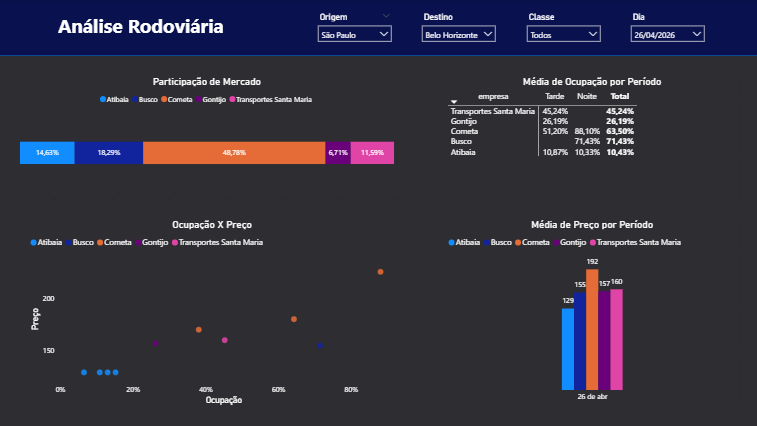

The page's visual inventory and layout, read from the dashboard file:
{"tool":"powerbi","page":{"name":"Análise Rodoviária","canvas":[1280,720],"ordinal":0},"visuals":[{"type":"pivotTable","title":"Média de Ocupação por Período","fields":{"Rows":["ouro_passagens.empresa"],"Columns":["ouro_passagens.data_partida Hierarquia.data_partida","ouro_passagens.data_partida Hierarquia.turno","ouro_passagens.data_partida Hierarquia.horario_saida"],"Values":["Avg(ouro_passagens.taxa_ocupacao)"]},"box":[752,128,496,208],"z":0},{"type":"shape","box":[0,0,1280,96],"z":1000},{"type":"textbox","box":[96,16,368,64],"z":2000},{"type":"scatterChart","title":"Ocupação X Preço","fields":{"X":["ouro_passagens.taxa_ocupacao"],"Y":["ouro_passagens.preco_passagem"],"Series":["ouro_passagens.empresa"]},"box":[48,368,624,320],"z":3000},{"type":"slicer","fields":{"Values":["ouro_passagens.data_partida"]},"box":[1056,16,144,64],"z":4000},{"type":"slicer","fields":{"Values":["ouro_passagens.origem"]},"box":[528,16,144,64],"z":5000},{"type":"slicer","fields":{"Values":["ouro_passagens.destino"]},"box":[704,16,144,64],"z":6000},{"type":"slicer","fields":{"Values":["ouro_passagens.classe_servico"]},"box":[880,16,144,64],"z":7000},{"type":"clusteredColumnChart","title":"Média de Preço por Período","fields":{"Category":["ouro_passagens.data_partida Hierarquia.data_partida","ouro_passagens.data_partida Hierarquia.turno","ouro_passagens.data_partida Hierarquia.horario_saida"],"Y":["Avg(ouro_passagens.preco_passagem)"],"Series":["ouro_passagens.empresa"]},"box":[752,368,496,320],"z":8000},{"type":"hundredPercentStackedBarChart","title":"Participação de Mercado","fields":{"Series":["ouro_passagens.empresa"],"Y":["Sum(ouro_passagens.assentos_ocupados)"]},"box":[32,128,640,208],"z":9000}]}

Visuals, with their boxes in screenshot pixels (x1, y1, x2, y2), scaled from the page's 1280x720 canvas onto the 757x426 screenshot:
"Média de Ocupação por Período" pivotTable: detection(445, 76, 738, 199)
shape: detection(0, 0, 756, 57)
textbox: detection(57, 9, 274, 47)
"Ocupação X Preço" scatterChart: detection(28, 218, 397, 407)
slicer - ouro_passagens.data_partida: detection(625, 9, 710, 47)
slicer - ouro_passagens.origem: detection(312, 9, 397, 47)
slicer - ouro_passagens.destino: detection(416, 9, 502, 47)
slicer - ouro_passagens.classe_servico: detection(520, 9, 606, 47)
"Média de Preço por Período" clusteredColumnChart: detection(445, 218, 738, 407)
"Participação de Mercado" hundredPercentStackedBarChart: detection(19, 76, 397, 199)
